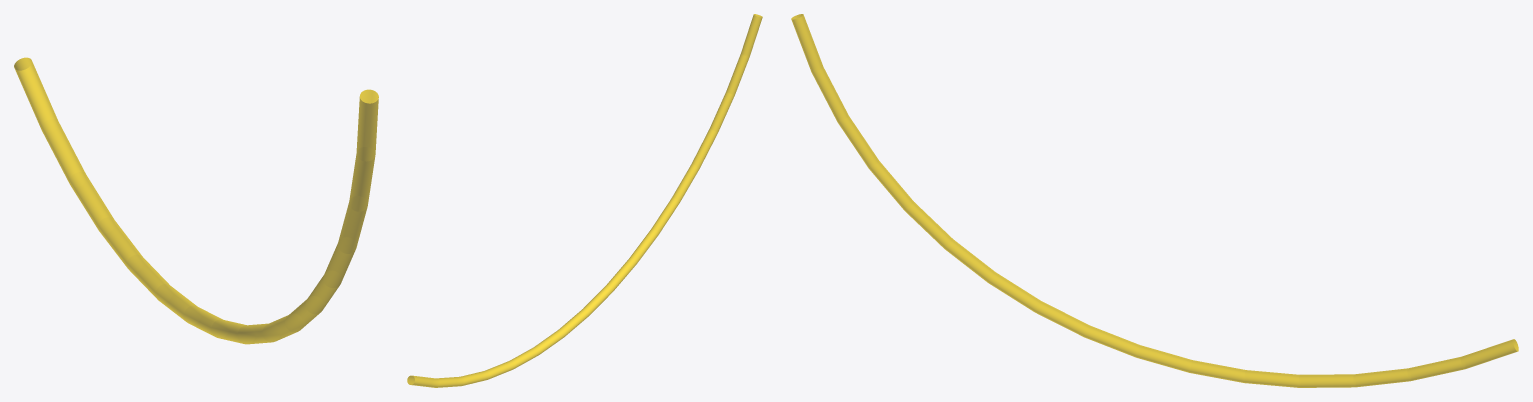
Rendered from Event_27938768_track_7.fbx.
3 renders of one model, left to right at view 1: azimuth 30°, elevation 25°; view 2: azimuth 150°, elevation 25°; view 3: azimuth 270°, elevation 25°, orthographic. The views are drawn at different scales.
Visible parts, largest first — view 1: Model; view 2: Model; view 3: Model.
Part boxes in pixels (x1=…): Model: x1=14, y1=57, x2=378, y2=344; Model: x1=407, y1=14, x2=762, y2=387; Model: x1=791, y1=14, x2=1518, y2=387.
Bounding box in the file's own units: 0.4591 × 1.1 × 2.2.
